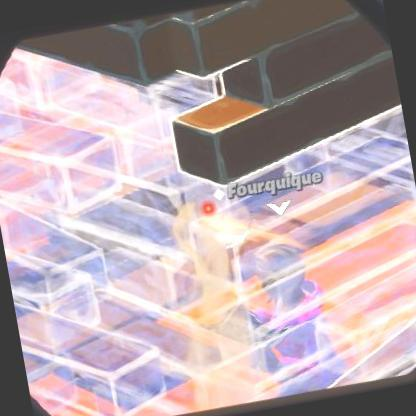person: (242, 240, 348, 407)
